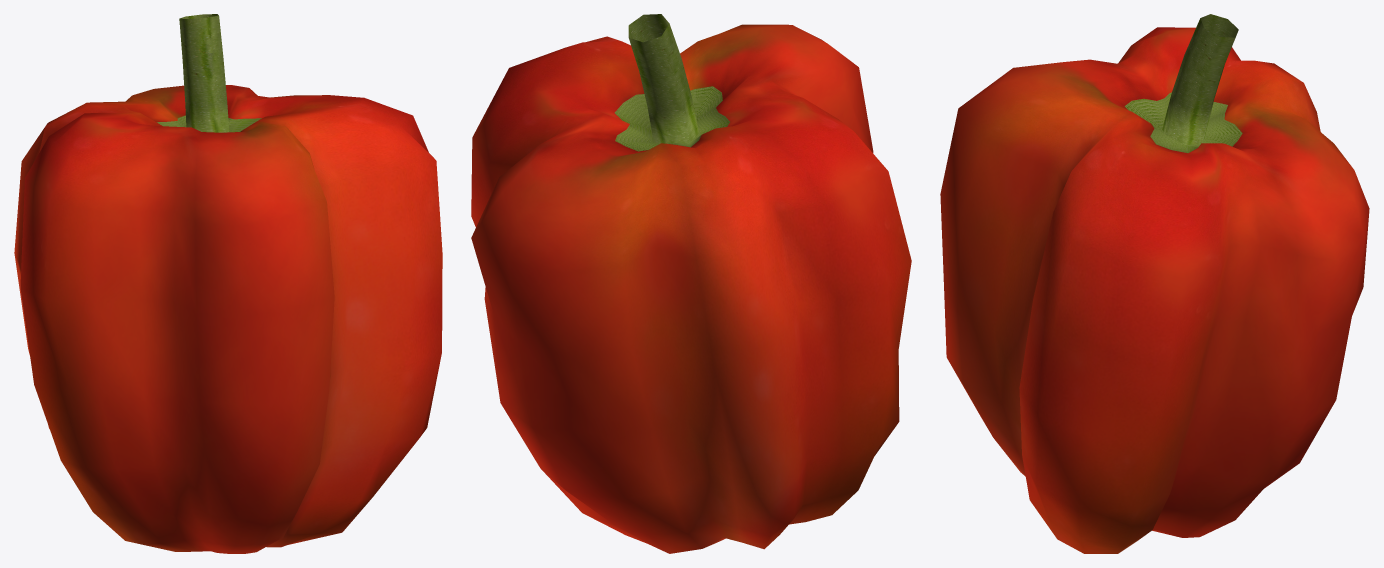
File: VG07_5_fruit3.dae
3 renders of one model, left to right at view 1: azimuth 30°, elevation 25°; view 2: azimuth 150°, elevation 25°; view 3: azimuth 270°, elevation 25°, orthographic. The views are drawn at different scales.
Visible parts, largest first — view 1: VG07_024; view 2: VG07_024; view 3: VG07_024.
Part boxes in pixels (box(x1,y1,x2,y2)): VG07_024: box(14, 14, 442, 553); VG07_024: box(471, 14, 911, 553); VG07_024: box(940, 14, 1369, 553).
Size of the model in its own units: 0.0765 by 0.0715 by 0.0937.
2 materials, 2 textured.
